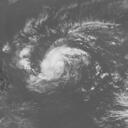cyclone: (37, 45, 86, 90)
